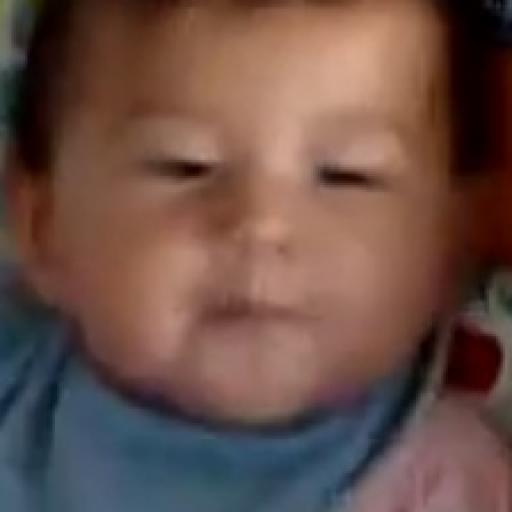Autism: (9, 0, 480, 469)
